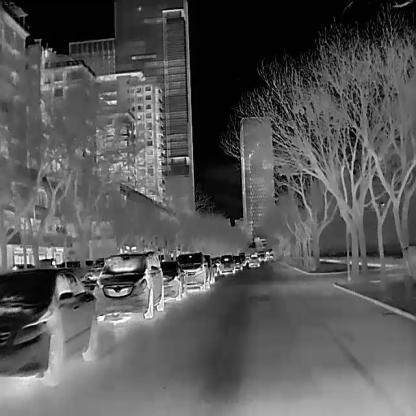car: (0, 264, 96, 387), (92, 251, 163, 317), (178, 250, 206, 291), (159, 259, 185, 301), (219, 252, 234, 274), (248, 254, 259, 266), (234, 255, 242, 271)
